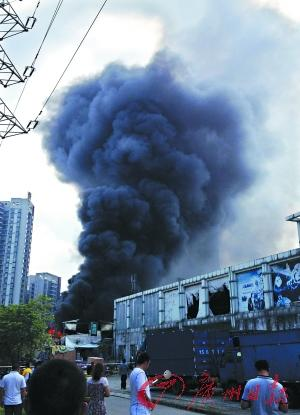smoke: (47, 74, 228, 279)
